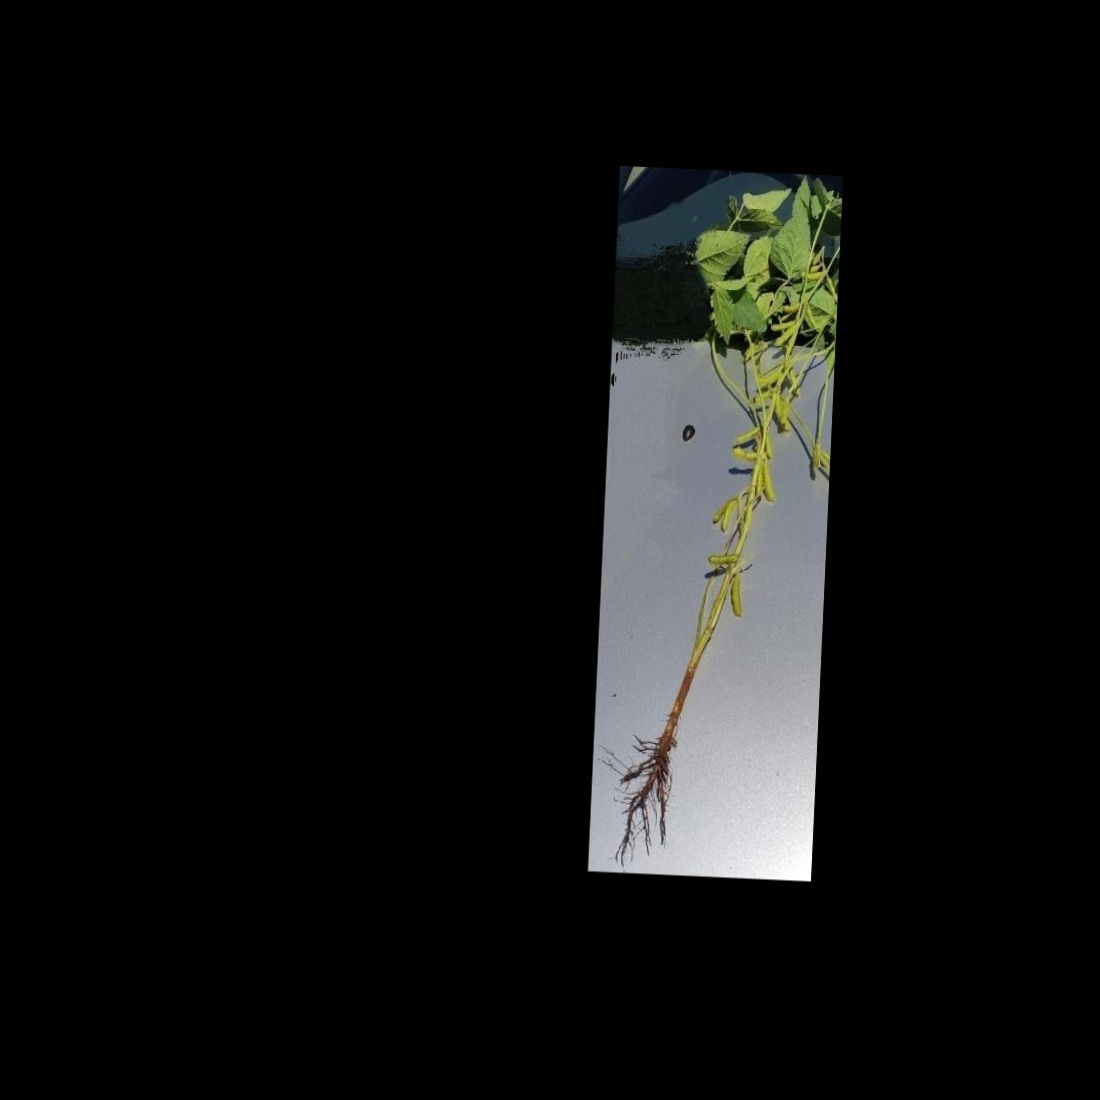pod: (717, 494, 740, 535), (759, 459, 778, 509), (727, 566, 744, 620), (729, 425, 768, 445), (770, 322, 796, 352), (766, 316, 798, 334), (729, 447, 765, 463), (703, 552, 740, 567)
soy: (613, 202, 835, 825)
